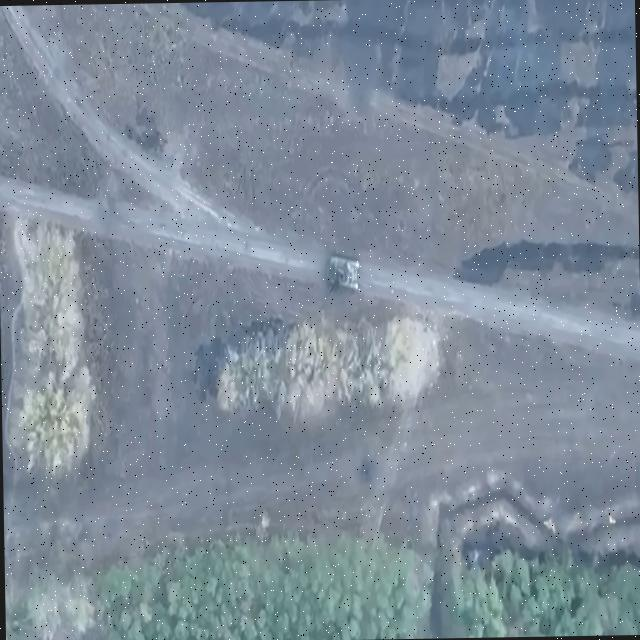MBT: (325, 254, 371, 297)
